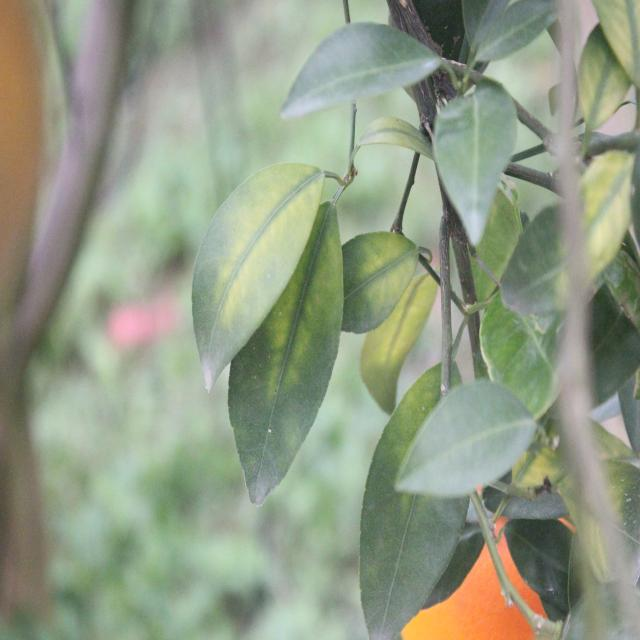greening: (182, 158, 324, 326), (262, 243, 368, 375), (573, 145, 635, 263), (343, 236, 418, 307)
